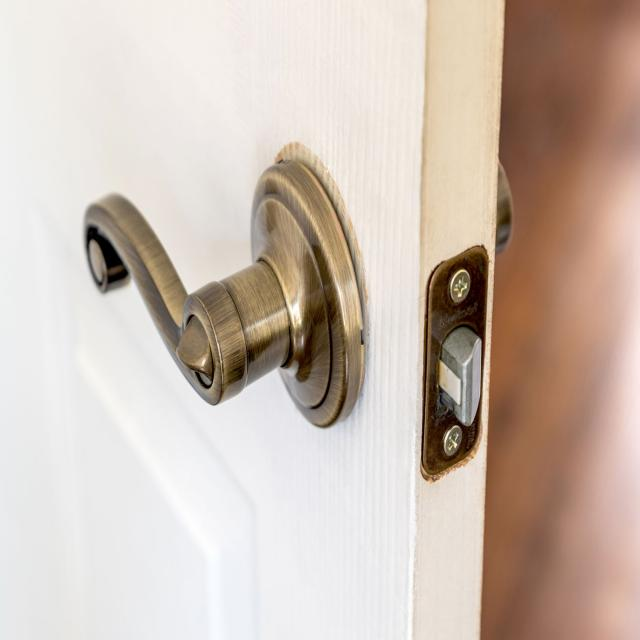door-handle: (85, 159, 364, 427)
